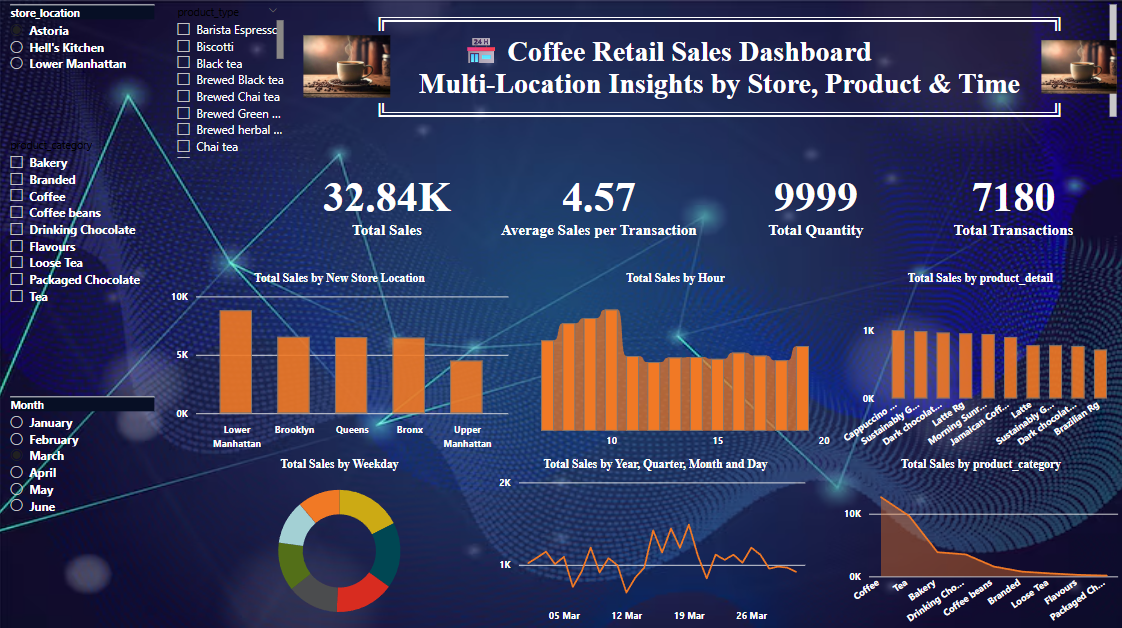

The dashboard page shown, as its layout file describes it:
{"tool":"powerbi","page":{"name":"Page 1","canvas":[1280,720],"ordinal":0},"visuals":[{"type":"card","fields":{"Values":["Transactions.Total Sales"]},"box":[320.1,151.5,243.8,157.2],"z":0},{"type":"card","fields":{"Values":["Transactions.Average Sales per Transaction"]},"box":[563.9,151.5,239.2,157.2],"z":1000},{"type":"card","fields":{"Values":["Transactions.Total Quantity"]},"box":[803.2,151.5,255.2,157.2],"z":2000},{"type":"card","fields":{"Values":["Transactions.Total Transactions"]},"box":[1045.7,151.6,220.5,157.7],"z":3000},{"type":"lineChart","fields":{"Y":["Transactions.Total Sales"],"Category":["Transactions.transaction_date.Variation.Date Hierarchy.Year","Transactions.transaction_date.Variation.Date Hierarchy.Quarter","Transactions.transaction_date.Variation.Date Hierarchy.Month","Transactions.transaction_date.Variation.Date Hierarchy.Day"]},"box":[563.4,520.6,367.5,199],"z":4000},{"type":"stackedAreaChart","fields":{"Category":["Transactions.product_category"],"Y":["Transactions.Total Sales"]},"box":[956.9,520.6,323.1,199],"z":5000},{"type":"clusteredColumnChart","fields":{"Category":["Transactions.product_detail"],"Y":["Transactions.Total Sales"]},"box":[956.9,309.3,321.5,211.3],"z":6000},{"type":"ribbonChart","fields":{"Category":["Transactions.Hour"],"Y":["Transactions.Total Sales"]},"box":[584.9,309.3,372.1,211.3],"z":7000},{"type":"donutChart","fields":{"Category":["Transactions.Weekday"],"Y":["Transactions.Total Sales"]},"box":[189.9,520.6,395,199],"z":8000},{"type":"columnChart","fields":{"Category":["Transactions.New Store Location"],"Y":["Transactions.Total Sales"]},"box":[189.9,309.3,395,211.3],"z":9000},{"type":"slicer","fields":{"Values":["Transactions.transaction_date.Variation.Date Hierarchy.Month"]},"box":[0,446.6,190.3,272.3],"z":10000},{"type":"textbox","box":[329.2,0,949,151.5],"z":11000},{"type":"image","box":[341.8,34.2,109.4,83.2],"z":12000},{"type":"image","box":[1182.5,38.7,95.7,74.1],"z":13000},{"type":"slicer","fields":{"Values":["Transactions.store_location"]},"box":[0,0,189.9,142.4],"z":14000},{"type":"slicer","fields":{"Values":["Transactions.product_category"]},"box":[0,151.6,189.9,295.5],"z":15000},{"type":"slicer","fields":{"Values":["Transactions.product_type"]},"box":[189.9,0,139.3,185.3],"z":16000}]}

Visuals, with their boxes on the page's 1280x720 design canvas (x1, y1, x2, y2). These are canvas units, not pixel positions in the 1122x628 screenshot, which may show the page scaled, cropped or inside an application window:
card - Transactions.Total Sales: [x1=320, y1=152, x2=564, y2=309]
card - Transactions.Average Sales per Transaction: [x1=564, y1=152, x2=803, y2=309]
card - Transactions.Total Quantity: [x1=803, y1=152, x2=1058, y2=309]
card - Transactions.Total Transactions: [x1=1046, y1=152, x2=1266, y2=309]
lineChart - Transactions.Total Sales x Transactions.transaction_date.Variation.Date Hierarchy.Year: [x1=563, y1=521, x2=931, y2=720]
stackedAreaChart - Transactions.product_category x Transactions.Total Sales: [x1=957, y1=521, x2=1280, y2=720]
clusteredColumnChart - Transactions.product_detail x Transactions.Total Sales: [x1=957, y1=309, x2=1278, y2=521]
ribbonChart - Transactions.Hour x Transactions.Total Sales: [x1=585, y1=309, x2=957, y2=521]
donutChart - Transactions.Weekday x Transactions.Total Sales: [x1=190, y1=521, x2=585, y2=720]
columnChart - Transactions.New Store Location x Transactions.Total Sales: [x1=190, y1=309, x2=585, y2=521]
slicer - Transactions.transaction_date.Variation.Date Hierarchy.Month: [x1=0, y1=447, x2=190, y2=719]
textbox: [x1=329, y1=0, x2=1278, y2=152]
image: [x1=342, y1=34, x2=451, y2=117]
image: [x1=1182, y1=39, x2=1278, y2=113]
slicer - Transactions.store_location: [x1=0, y1=0, x2=190, y2=142]
slicer - Transactions.product_category: [x1=0, y1=152, x2=190, y2=447]
slicer - Transactions.product_type: [x1=190, y1=0, x2=329, y2=185]
